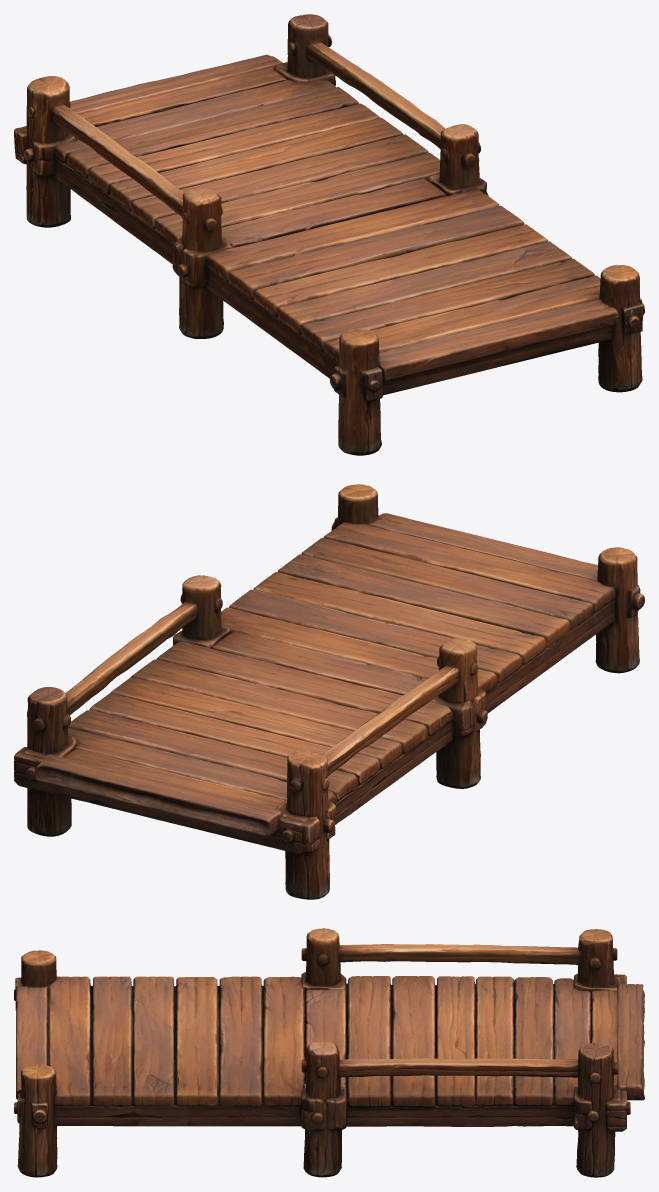
Rendered from dock.glb.
3 views of the same model, one above another, from view 1: azimuth 30°, elevation 25°; view 2: azimuth 150°, elevation 25°; view 3: azimuth 270°, elevation 25° (orthographic). The views are drawn at different scales.
Parts seen in each view (by area): view 1: tripo_node_b1bb2613-fa61-4553-b3b6-7fd7a75e6598; view 2: tripo_node_b1bb2613-fa61-4553-b3b6-7fd7a75e6598; view 3: tripo_node_b1bb2613-fa61-4553-b3b6-7fd7a75e6598.
Boxes of the visible parts, <box> form: tripo_node_b1bb2613-fa61-4553-b3b6-7fd7a75e6598: <box>14,14,644,455</box>; tripo_node_b1bb2613-fa61-4553-b3b6-7fd7a75e6598: <box>14,484,644,899</box>; tripo_node_b1bb2613-fa61-4553-b3b6-7fd7a75e6598: <box>14,928,644,1177</box>.
Size of the model in its own units: 3.04 by 1.29 by 6.
Materials: 1 (1 with a texture image).
